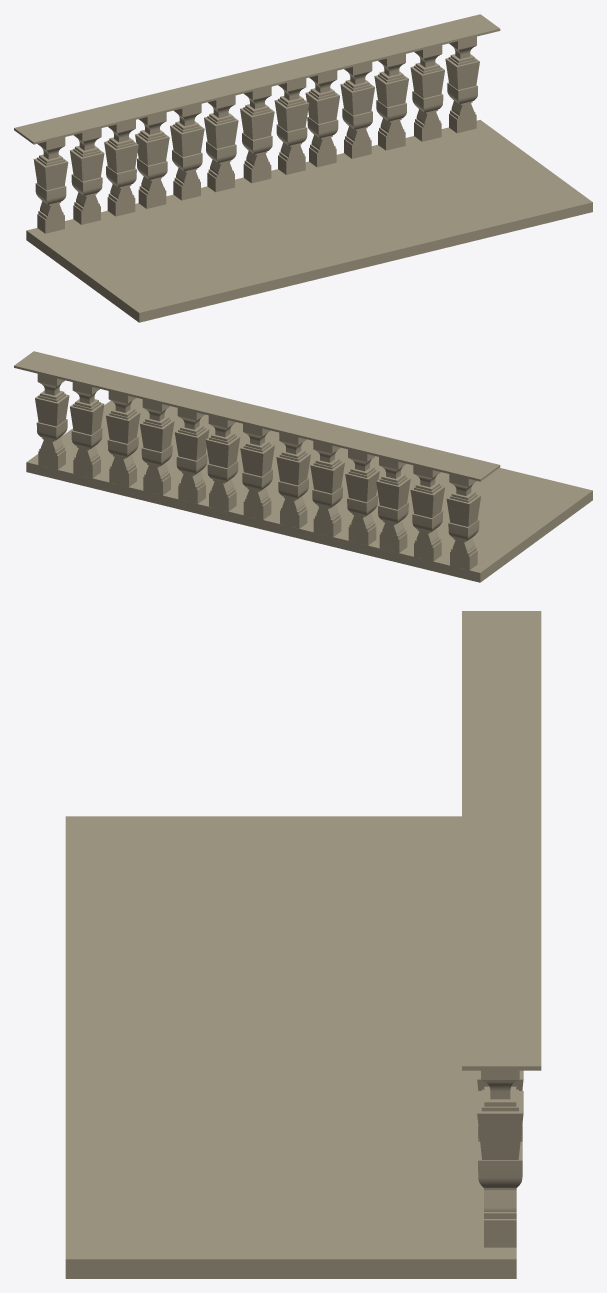
File: Piattaforma_balcone_2_GGJ.fbx
3 renders of one model, top to bottom at view 1: azimuth 30°, elevation 25°; view 2: azimuth 150°, elevation 25°; view 3: azimuth 270°, elevation 25°, orthographic. The views are drawn at different scales.
Visible parts, largest first — view 1: pCube20; view 2: pCube20; view 3: pCube20.
Boxes of the visible parts, x1=… form: pCube20: x1=14, y1=14, x2=592, y2=322; pCube20: x1=14, y1=351, x2=592, y2=582; pCube20: x1=65, y1=611, x2=541, y2=1278.
Bounding box in the file's own units: 7.19 × 1.61 × 3.17.
